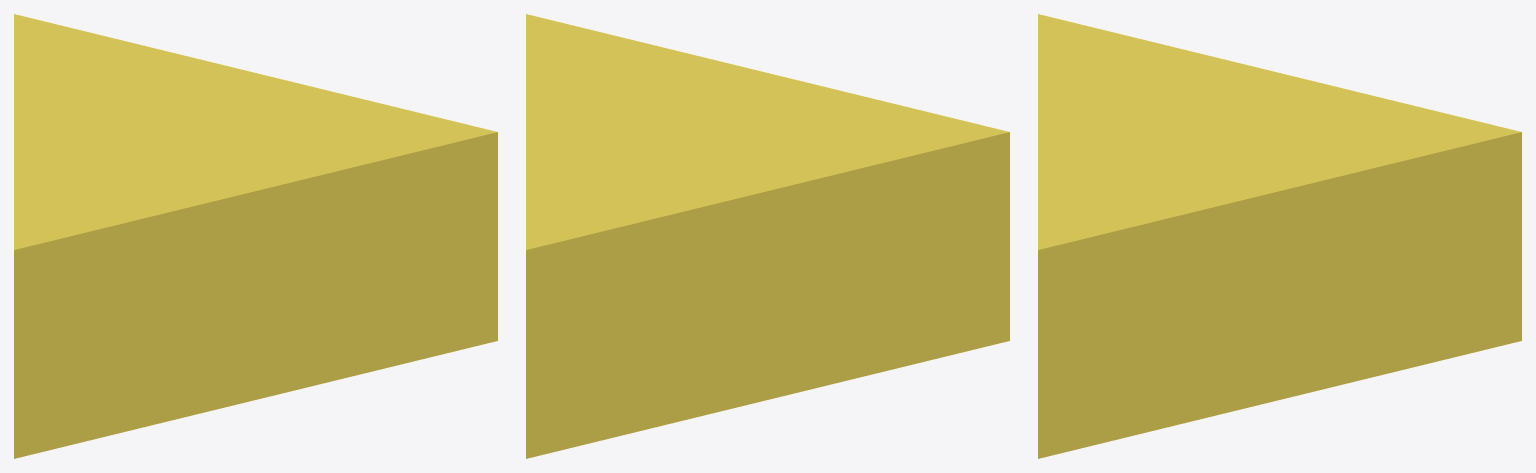
The model's file is g_cheese_wedge.glb.
3 renders of one model, left to right at view 1: azimuth 30°, elevation 25°; view 2: azimuth 150°, elevation 25°; view 3: azimuth 270°, elevation 25°, orthographic.
Parts seen in each view (by area): view 1: g_cheese_wedge; view 2: g_cheese_wedge; view 3: g_cheese_wedge.
Part boxes in pixels (bbox=[...]): g_cheese_wedge: bbox=[14, 14, 497, 458]; g_cheese_wedge: bbox=[526, 14, 1009, 458]; g_cheese_wedge: bbox=[1038, 14, 1521, 458].
Size of the model in its own units: 0.1212 by 0.05 by 0.105.
